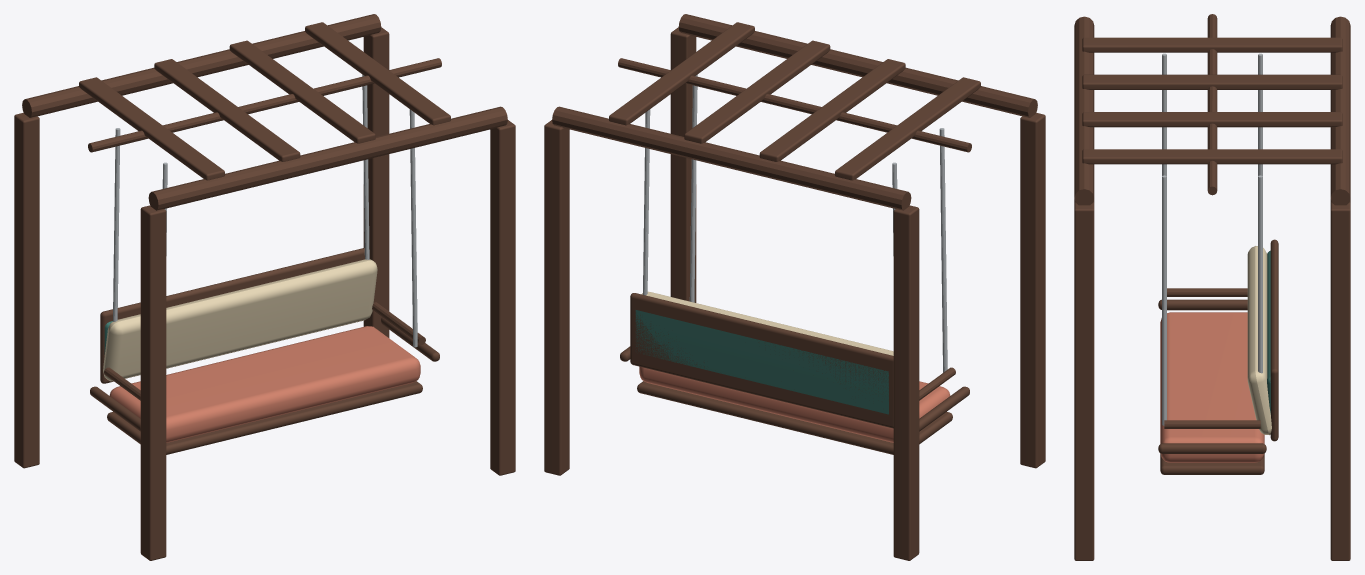
Rendered from outdoor_swing_b.glb.
The picture shows the model from 3 angles, left to right: view 1: azimuth 30°, elevation 25°; view 2: azimuth 150°, elevation 25°; view 3: azimuth 270°, elevation 25°; orthographic projection.
Visible parts, largest first — view 1: Tint, Back cushion.001, Pergola post.001, Pergola post, Pergola post.003, Pergola beam.001, Pergola beam, Pergola post.002, Seat base.001, Back board.001, Pergola slat.001, Pergola slat (+7 smaller); view 2: Swing headboard, Back board.001, Pergola post, Pergola post.001, Pergola post.002, Pergola beam, Pergola beam.001, Pergola post.003, Tint, Seat base.001, Pergola slat.001, Pergola slat (+8 smaller); view 3: Tint, Pergola post.002, Pergola post.003, Pergola slat, Pergola slat.001, Pergola slat.003, Pergola slat.002, Pergola beam, Pergola beam.001, Back cushion.001, Back board.001, Pergola tie (+10 smaller).
Part boxes in pixels (x1,y1,x2,y2): Tint: [109, 326, 420, 442]; Back cushion.001: [103, 259, 377, 381]; Pergola post.001: [140, 205, 166, 560]; Pergola post: [14, 112, 39, 468]; Pergola post.003: [490, 120, 515, 475]; Pergola beam.001: [148, 106, 507, 210]; Pergola beam: [22, 14, 381, 117]; Pergola post.002: [363, 27, 389, 337]; Seat base.001: [107, 381, 422, 454]; Back board.001: [100, 248, 366, 383]; Pergola slat.001: [154, 59, 300, 161]; Pergola slat: [79, 77, 224, 180]; Swing headboard: [635, 310, 888, 414]; Back board.001: [630, 293, 893, 428]; Pergola post: [893, 205, 919, 560]; Pergola post.001: [1020, 112, 1045, 468]; Pergola post.002: [544, 120, 569, 475]; Pergola beam: [552, 106, 911, 210]; Pergola beam.001: [678, 14, 1037, 117]; Pergola post.003: [670, 27, 696, 302]; Tint: [639, 366, 950, 442]; Seat base.001: [637, 381, 952, 454]; Pergola slat.001: [759, 59, 905, 161]; Pergola slat: [835, 77, 980, 180]; Tint: [1160, 312, 1264, 462]; Pergola post.002: [1330, 202, 1350, 560]; Pergola post.003: [1074, 202, 1094, 560]; Pergola slat: [1082, 37, 1342, 52]; Pergola slat.001: [1082, 74, 1342, 89]; Pergola slat.003: [1082, 149, 1342, 164]; Pergola slat.002: [1082, 112, 1342, 127]; Pergola beam: [1330, 16, 1350, 205]; Pergola beam.001: [1074, 16, 1094, 205]; Back cushion.001: [1247, 246, 1271, 435]; Back board.001: [1270, 239, 1278, 441]; Pergola tie: [1207, 14, 1217, 195].
Size of the model in its own units: 2.14 by 2.06 by 1.38.
